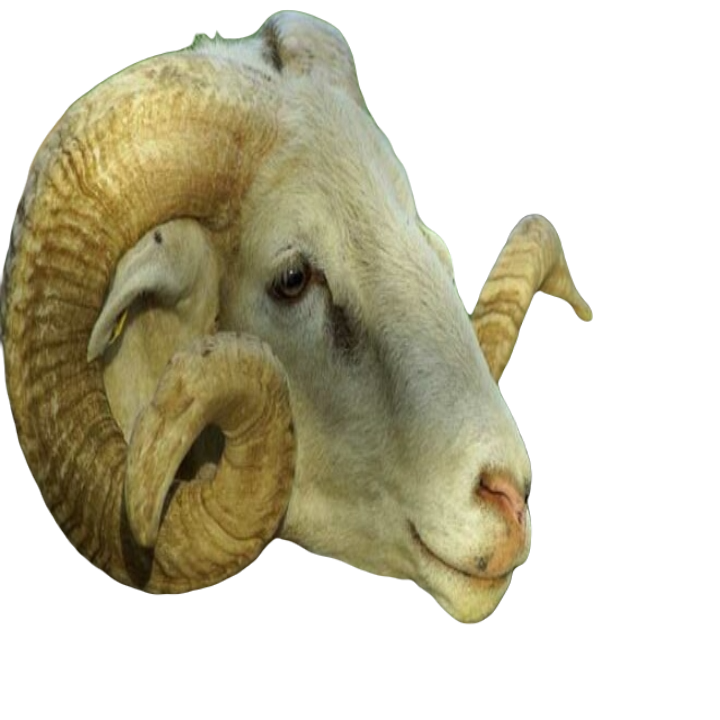Sheep: (0, 2, 601, 625)
